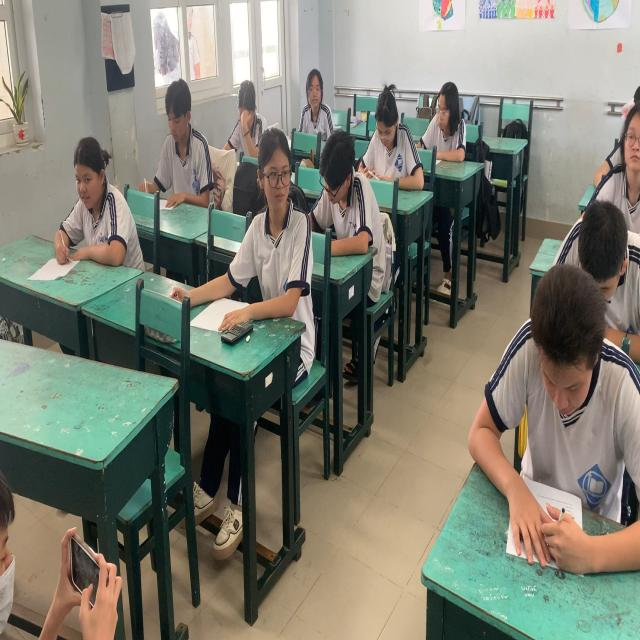cheating: (244, 126, 316, 343), (55, 127, 136, 270), (294, 54, 334, 153)
not_cheating: (514, 255, 638, 539), (153, 68, 214, 212), (574, 182, 640, 307), (361, 84, 420, 200), (316, 126, 372, 247), (603, 87, 640, 210), (226, 61, 262, 162), (428, 73, 464, 172)
